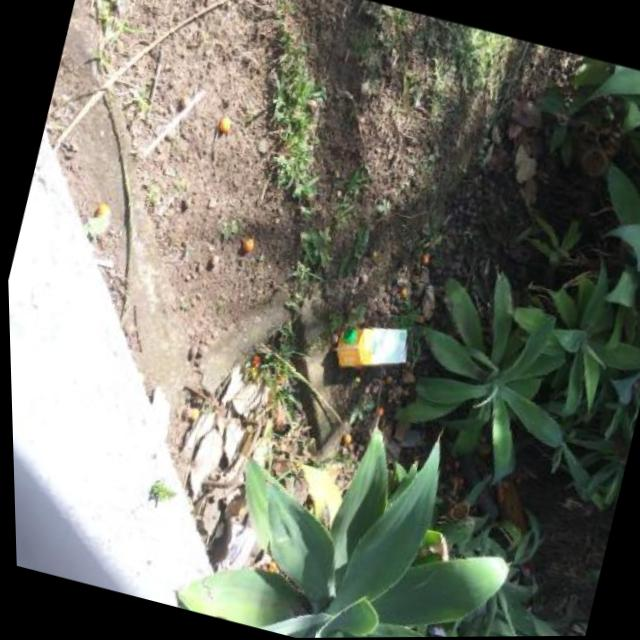cardboard: (327, 310, 416, 383)
